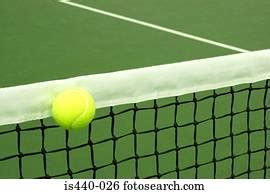tennis_ball: (51, 86, 96, 130)
